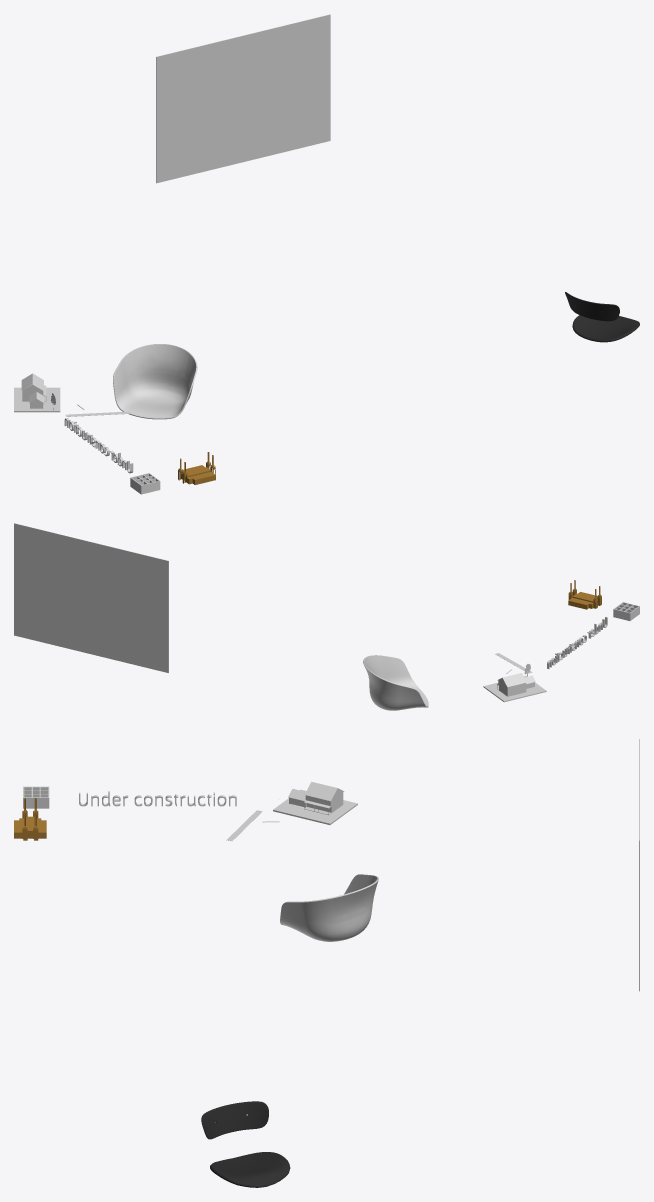
File: white.glb
The picture shows the model from 3 angles, top to bottom: view 1: azimuth 30°, elevation 25°; view 2: azimuth 150°, elevation 25°; view 3: azimuth 270°, elevation 25°; orthographic projection. The views are drawn at different scales.
Size of the model in its own units: 4.92 by 1.76 by 3.72.
